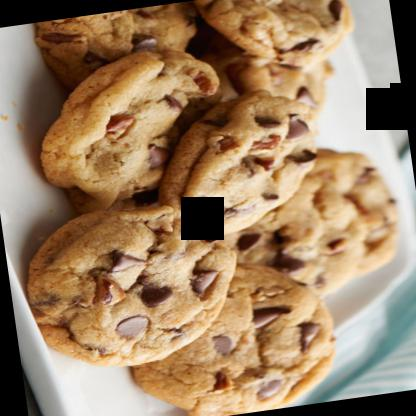cookie: (16, 192, 256, 380), (114, 253, 349, 415), (25, 41, 237, 217), (154, 86, 334, 241)
